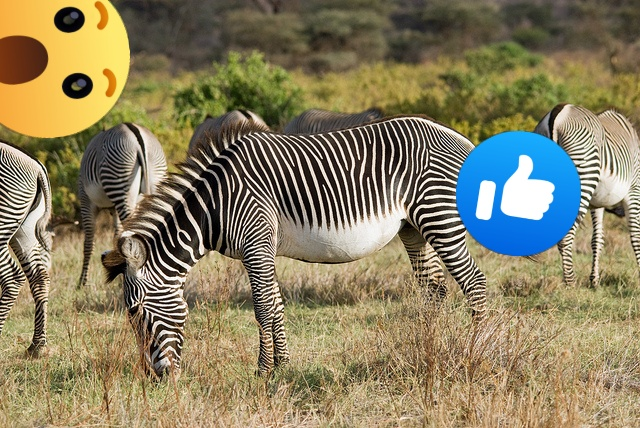like: (456, 131, 581, 256)
wow: (0, 0, 130, 138)
